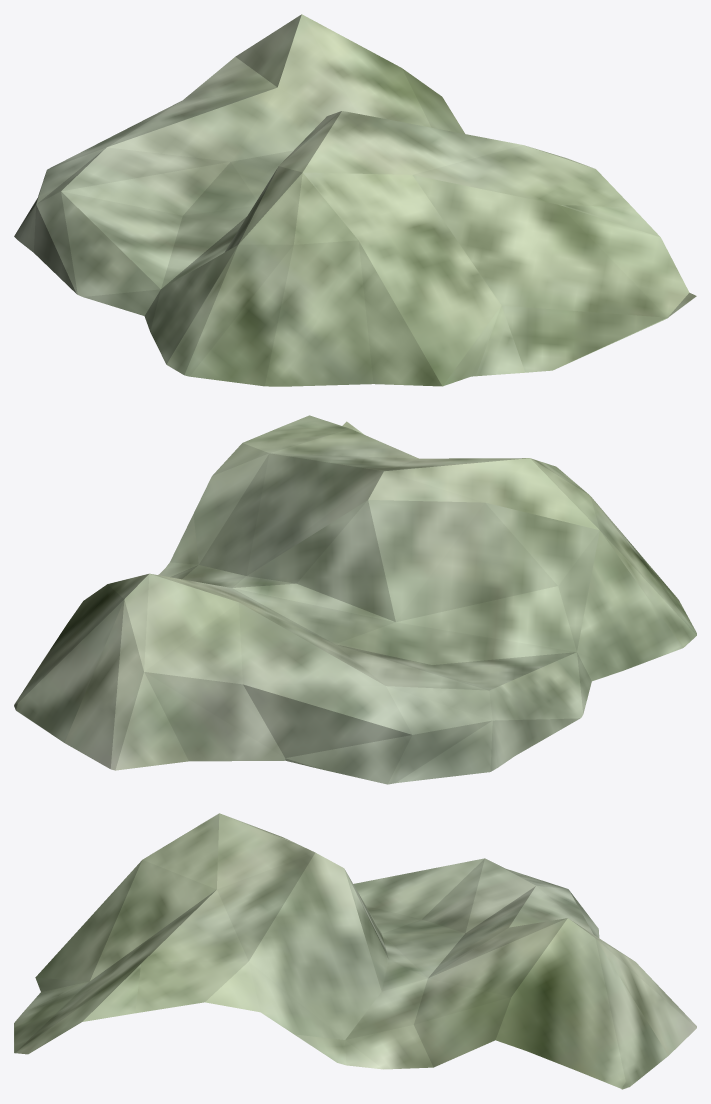
3 views of the same model, one above another, from view 1: azimuth 30°, elevation 25°; view 2: azimuth 150°, elevation 25°; view 3: azimuth 270°, elevation 25° (orthographic). The views are drawn at different scales.
Bounding box in the file's own units: 1.44 × 0.5015 × 2.11.
Materials: 1 (1 with a texture image).
